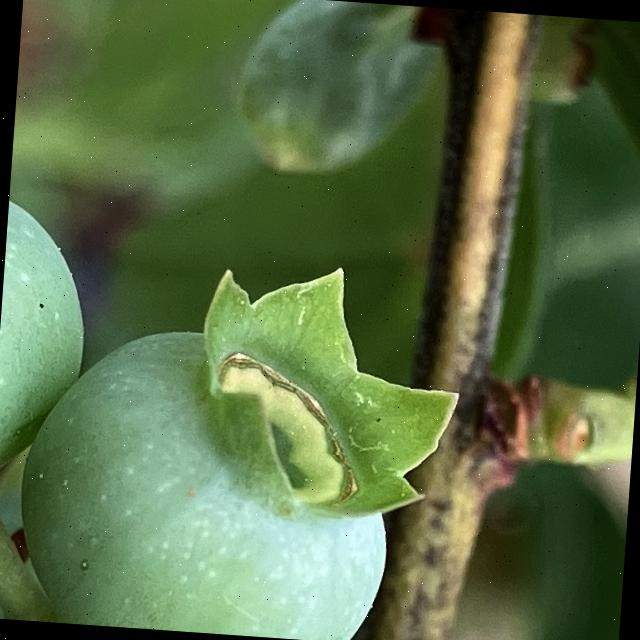Blueberries: (10, 236, 476, 640), (0, 102, 105, 537)
